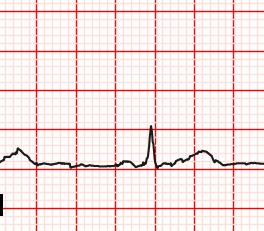LVH: (180, 147, 224, 170)
